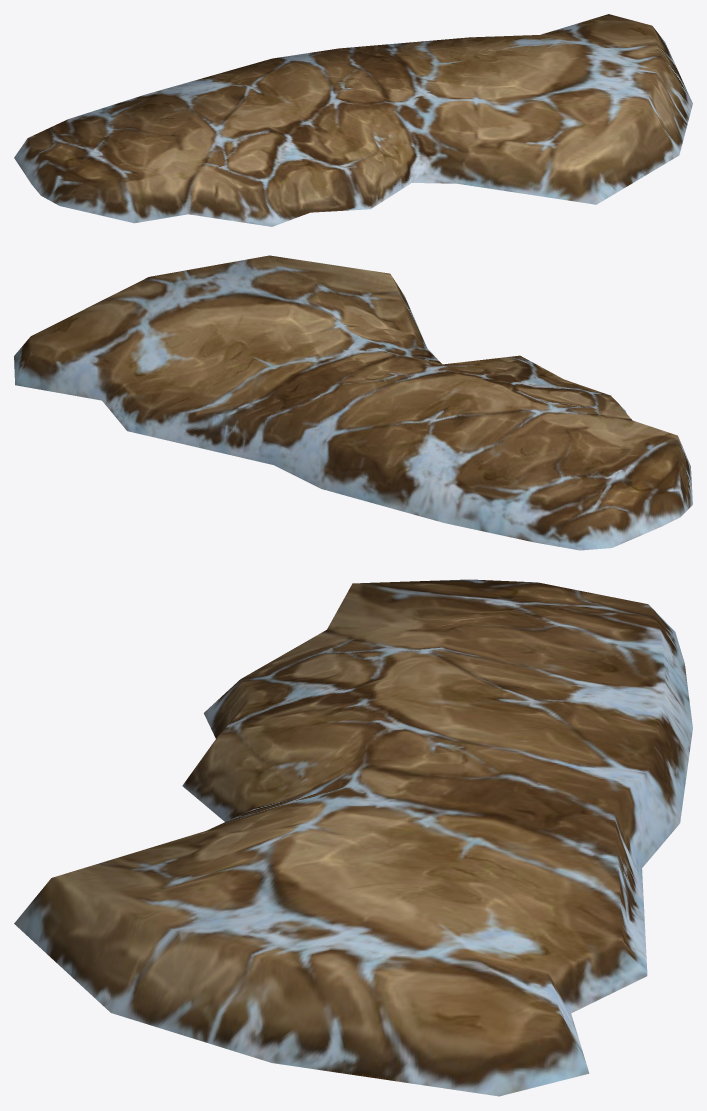
Rendered from Stage_BingYuan_ShiDui03.FBX.
3 renders of one model, top to bottom at view 1: azimuth 30°, elevation 25°; view 2: azimuth 150°, elevation 25°; view 3: azimuth 270°, elevation 25°, orthographic. The views are drawn at different scales.
Visible parts, largest first — view 1: Stage_BingYuan_ShiDui03; view 2: Stage_BingYuan_ShiDui03; view 3: Stage_BingYuan_ShiDui03.
Part boxes in pixels (<box>): Stage_BingYuan_ShiDui03: <box>14,14,692,226</box>; Stage_BingYuan_ShiDui03: <box>14,255,692,550</box>; Stage_BingYuan_ShiDui03: <box>14,579,692,1096</box>.
Bounding box in the file's own units: 608 × 48.74 × 352.
